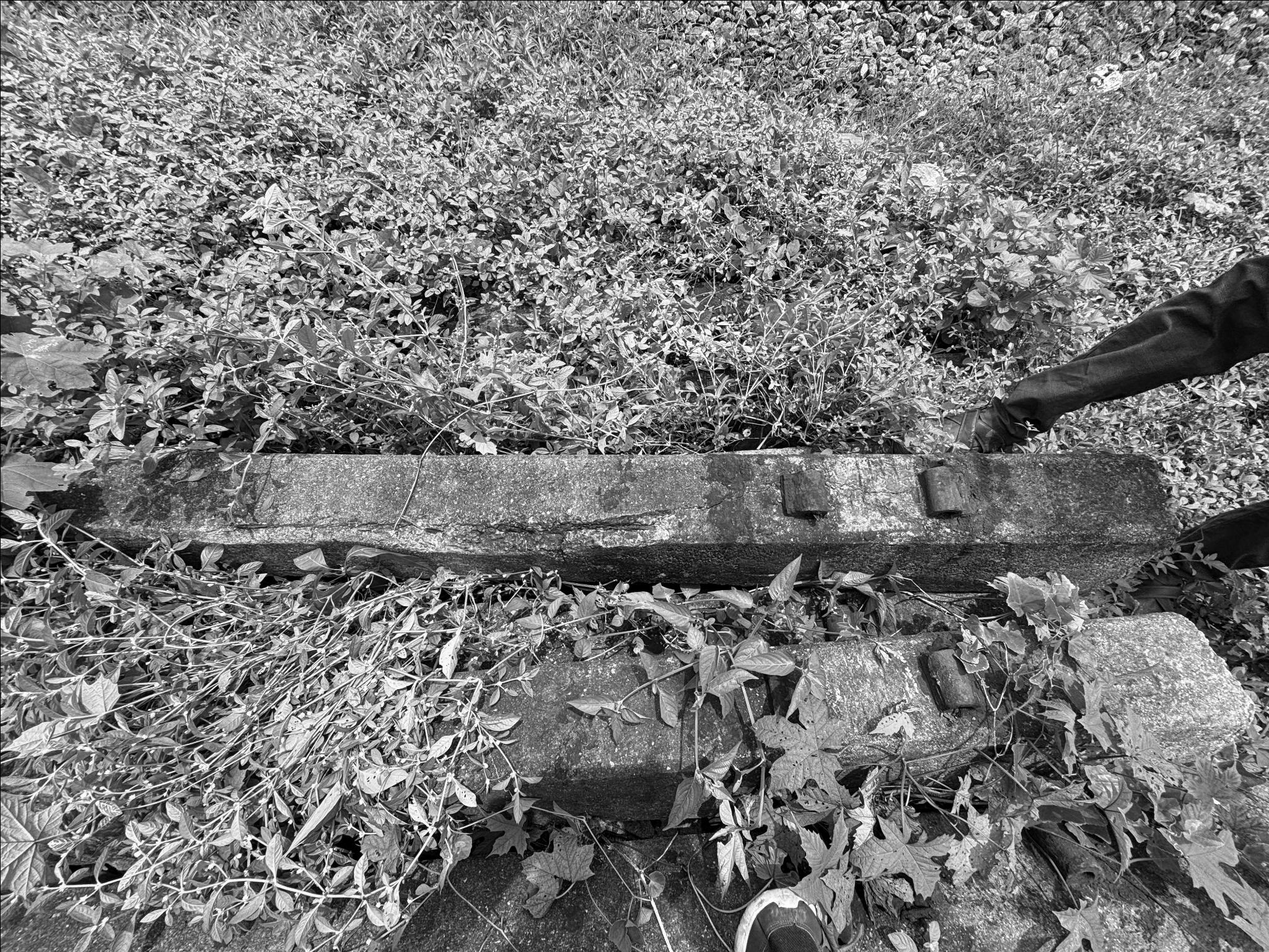cracks in midportion: (147, 464, 757, 540)
cracks under rail seat: (833, 469, 915, 516)
